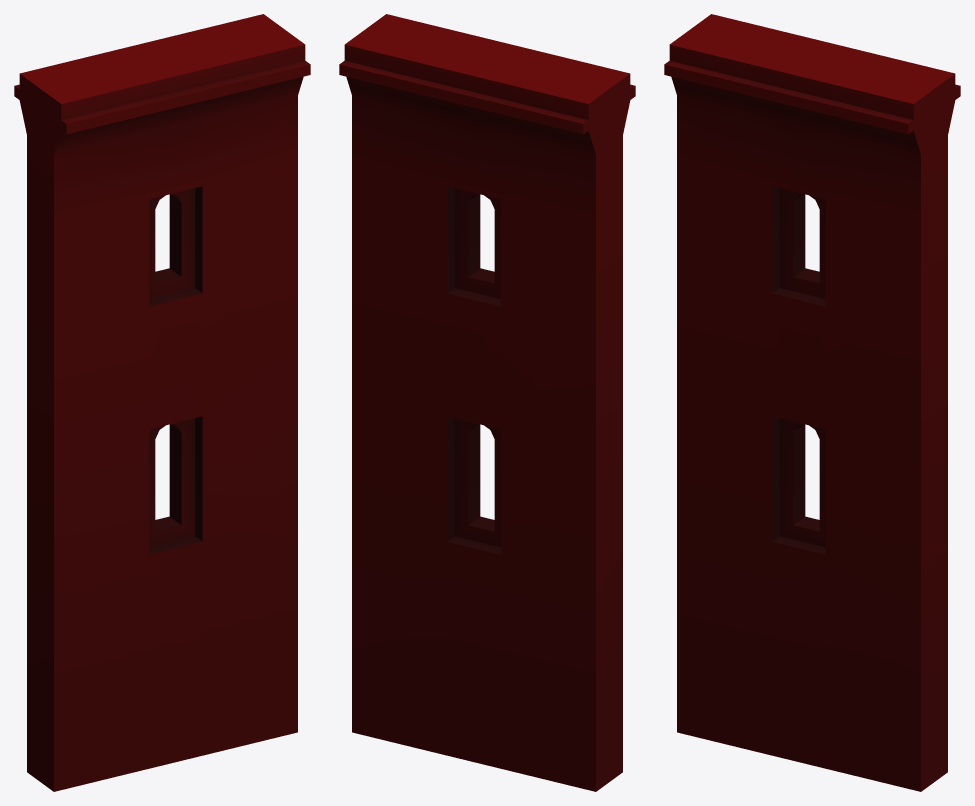
File: buildings-ruins-castleruins_v1.fbx
3 renders of one model, left to right at view 1: azimuth 30°, elevation 25°; view 2: azimuth 150°, elevation 25°; view 3: azimuth 330°, elevation 25°, orthographic.
Parts seen in each view (by area): view 1: CastleRuins_v1; view 2: CastleRuins_v1; view 3: CastleRuins_v1.
Boxes of the visible parts, x1=… form: CastleRuins_v1: x1=14, y1=14, x2=310, y2=791; CastleRuins_v1: x1=339, y1=14, x2=635, y2=791; CastleRuins_v1: x1=664, y1=14, x2=960, y2=791.
Size of the model in its own units: 9.04 by 24.53 by 3.34.
